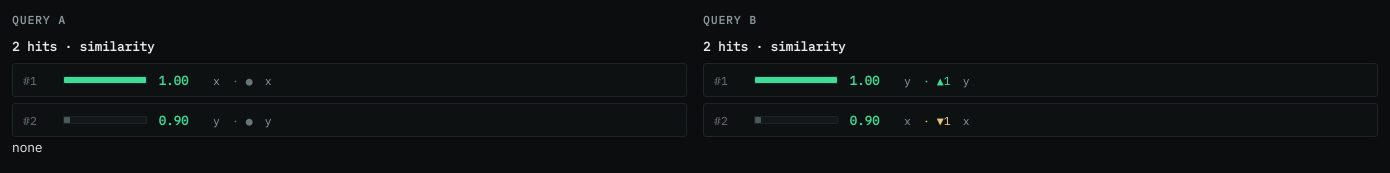
Test: selecting a shared hit in column B carries side B and its rank delta
The image size is (1390, 173).
Click the button "#1 1.00 y · ▲1 y": (796, 80) x1=704 y1=64 x2=1377 y2=96
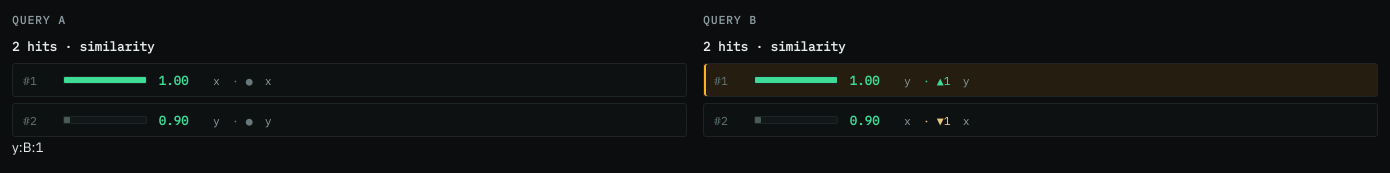
Expected: the text with test id "probe" reads "y:B:1", x1=12 y1=138 x2=44 y2=156
